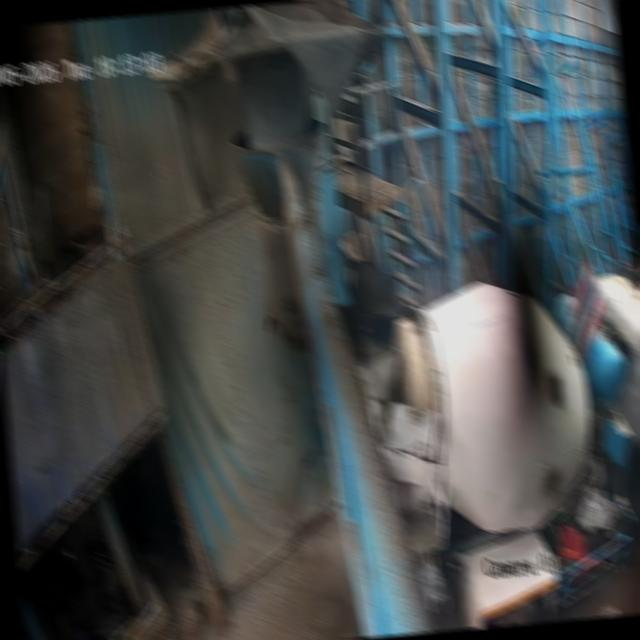cement_mixer_truck: (335, 264, 640, 637)
swing_chute: (233, 118, 345, 352)
